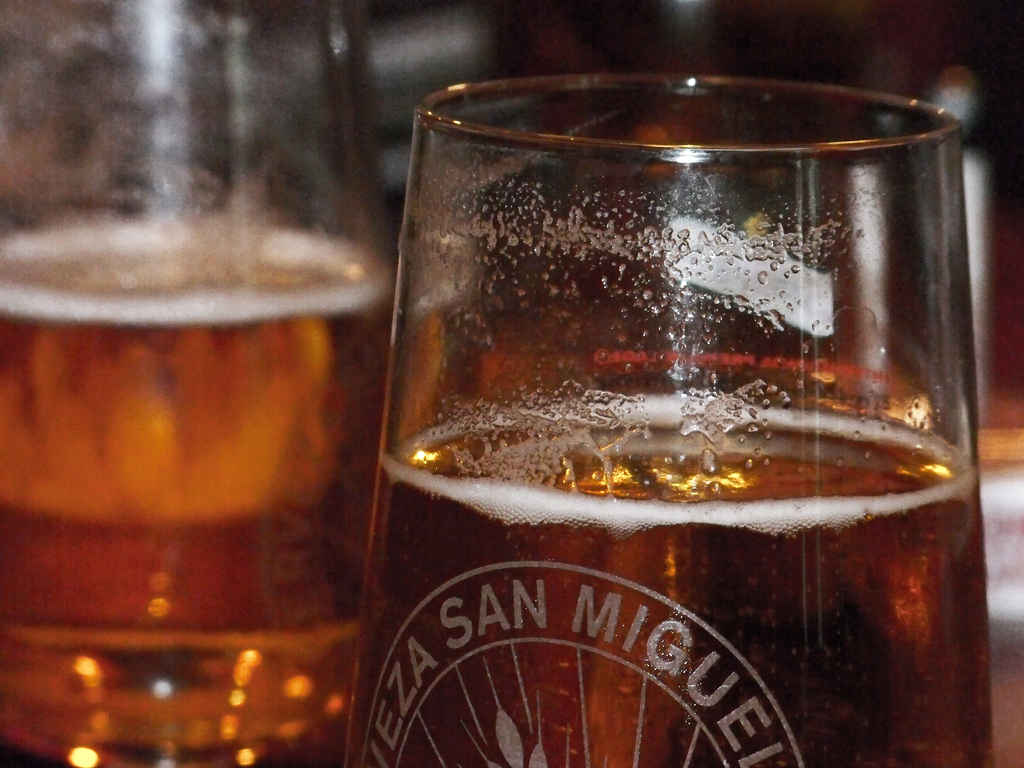Beer: (343, 71, 992, 767), (0, 0, 498, 768)
